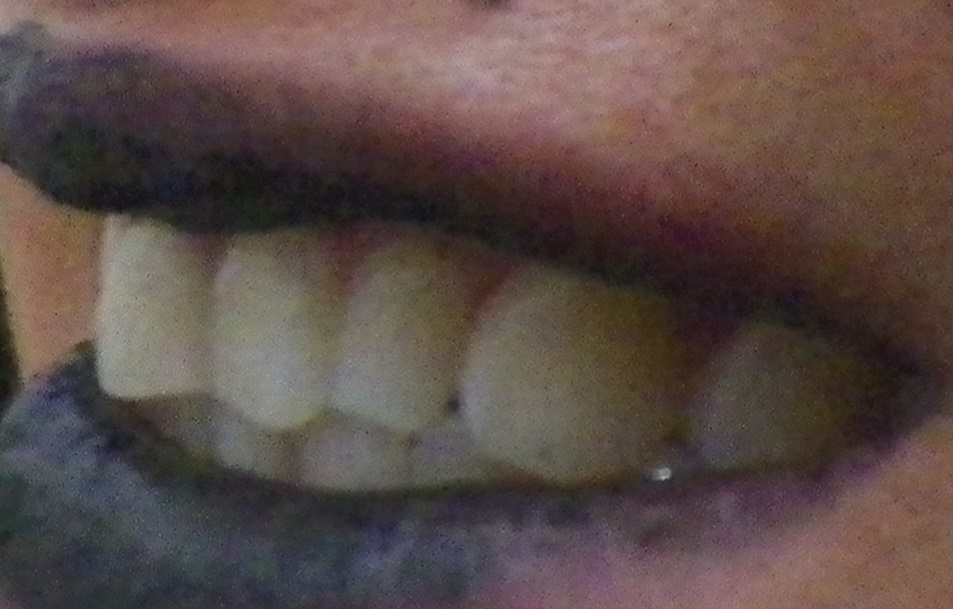boca: (88, 204, 858, 500)
